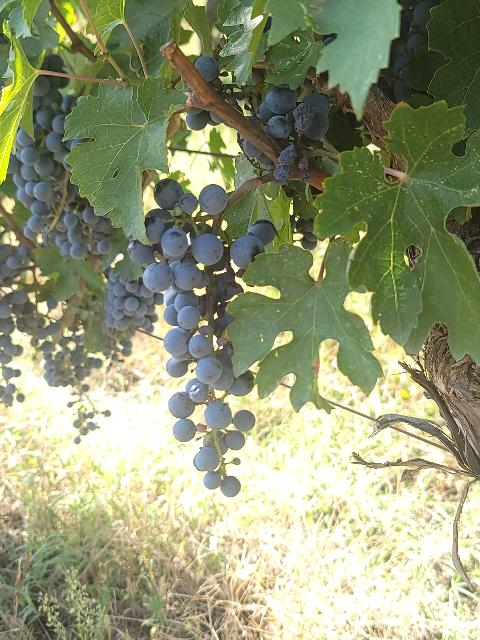grapes: (131, 179, 276, 496), (8, 75, 76, 238), (104, 270, 164, 331)
